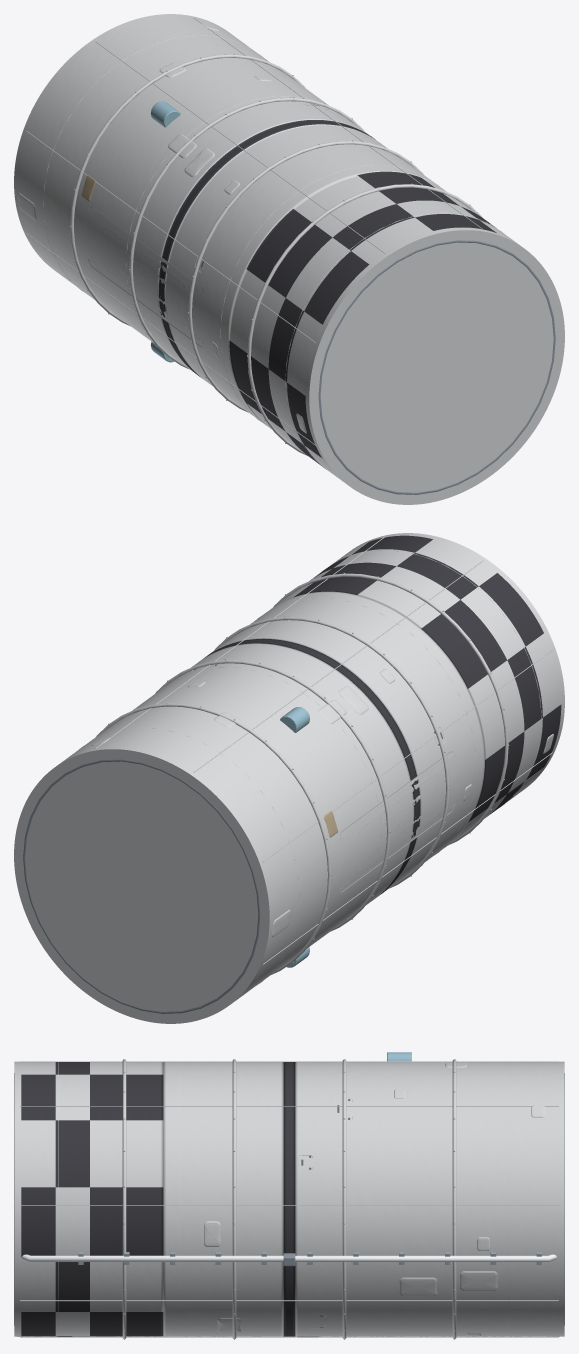
The model's file is tank-12-main.glb.
The picture shows the model from 3 angles, top to bottom: view 1: azimuth 30°, elevation 25°; view 2: azimuth 150°, elevation 25°; view 3: azimuth 270°, elevation 25°; orthographic projection. The views are drawn at different scales.
Parts seen in each view (by area): view 1: tank_hull, tank_surface_panels, tank_end_rim_1.0, tank-band.003, tank-band.002, tank-band, tank-band.001; view 2: tank_hull, tank_surface_panels, tank_end_rim_-1.0, tank-band, tank-band.002, tank-band.003, tank-band.001; view 3: tank_hull, cryo_feedline, tank_surface_panels, tank-band, tank-band.001, tank-band.002, tank-band.003, tank_longitudinal_seam_7, tank_longitudinal_seam_6, tank_longitudinal_seam_0, tank_longitudinal_seam_2, tank_longitudinal_seam_1.
Part boxes in pixels (x1=…): tank_hull: x1=14, y1=14, x2=564, y2=504; tank_surface_panels: x1=18, y1=23, x2=371, y2=433; tank_end_rim_1.0: x1=318, y1=240, x2=555, y2=494; tank-band.003: x1=247, y1=184, x2=482, y2=455; tank-band.002: x1=188, y1=141, x2=423, y2=412; tank-band: x1=70, y1=54, x2=305, y2=326; tank-band.001: x1=129, y1=97, x2=364, y2=369; tank_hull: x1=14, y1=533, x2=564, y2=1023; tank_surface_panels: x1=92, y1=659, x2=553, y2=937; tank_end_rim_-1.0: x1=23, y1=759, x2=260, y2=1013; tank-band: x1=96, y1=703, x2=331, y2=974; tank-band.002: x1=214, y1=616, x2=449, y2=888; tank-band.003: x1=273, y1=573, x2=508, y2=845; tank-band.001: x1=155, y1=660, x2=390, y2=931; tank_hull: x1=14, y1=1061, x2=564, y2=1336; cryo_feedline: x1=22, y1=1254, x2=556, y2=1261; tank_surface_panels: x1=204, y1=1062, x2=545, y2=1337; tank-band: x1=452, y1=1059, x2=456, y2=1338; tank-band.001: x1=342, y1=1059, x2=346, y2=1338; tank-band.002: x1=232, y1=1059, x2=236, y2=1338; tank-band.003: x1=122, y1=1059, x2=126, y2=1338; tank_longitudinal_seam_7: x1=20, y1=1300, x2=558, y2=1301; tank_longitudinal_seam_6: x1=20, y1=1336, x2=558, y2=1337; tank_longitudinal_seam_0: x1=20, y1=1205, x2=558, y2=1205; tank_longitudinal_seam_2: x1=20, y1=1061, x2=558, y2=1061; tank_longitudinal_seam_1: x1=20, y1=1106, x2=558, y2=1106.
Size of the model in its own units: 6.32 by 6.15 by 12.02.
